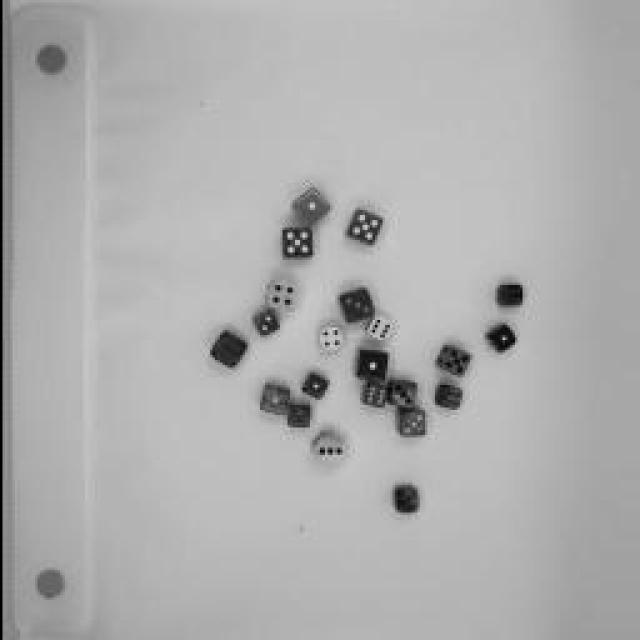dice_1: (345, 347, 390, 385), (285, 185, 325, 227), (479, 318, 519, 358), (254, 382, 291, 418), (295, 365, 325, 405)
dice_3: (330, 282, 375, 330), (308, 429, 342, 469), (392, 408, 428, 440), (385, 372, 415, 410)
dice_4: (260, 268, 290, 312), (312, 319, 342, 356)
dice_5: (339, 202, 389, 262), (380, 475, 425, 520), (430, 339, 475, 379), (271, 225, 314, 265), (282, 398, 312, 432)
dice_6: (202, 322, 248, 382), (488, 275, 522, 310), (355, 380, 385, 415), (430, 382, 460, 412), (362, 312, 388, 342)
